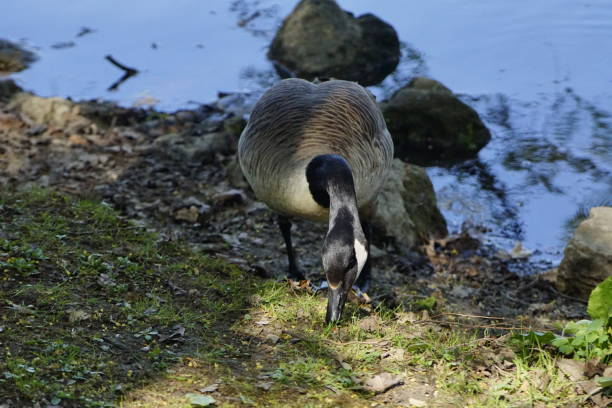goose: (234, 74, 399, 332)
